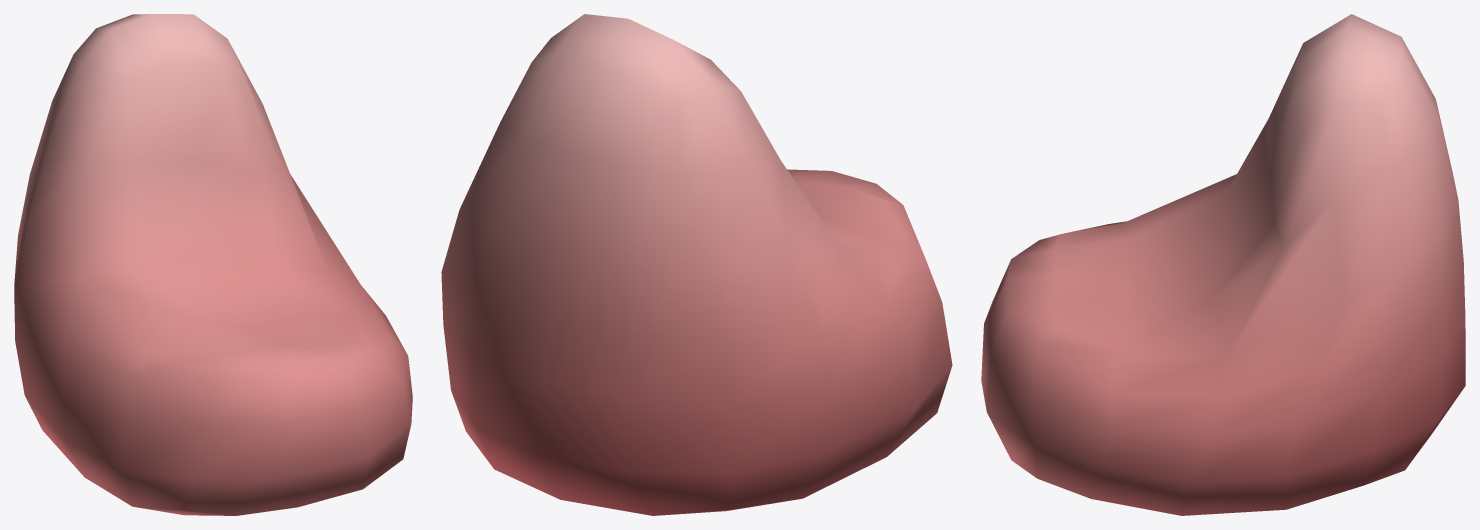
The model's file is Bean_Bag_2.fbx.
3 views of the same model, side by side, from view 1: azimuth 30°, elevation 25°; view 2: azimuth 150°, elevation 25°; view 3: azimuth 270°, elevation 25° (orthographic). The views are drawn at different scales.
Parts seen in each view (by area): view 1: Bean_Bag_2; view 2: Bean_Bag_2; view 3: Bean_Bag_2.
Part boxes in pixels (x1,y1,x2,y2): Bean_Bag_2: (14, 14, 412, 515); Bean_Bag_2: (441, 14, 952, 515); Bean_Bag_2: (981, 14, 1465, 515).
Bounding box in the file's own units: 0.9803 × 1.11 × 1.13.
